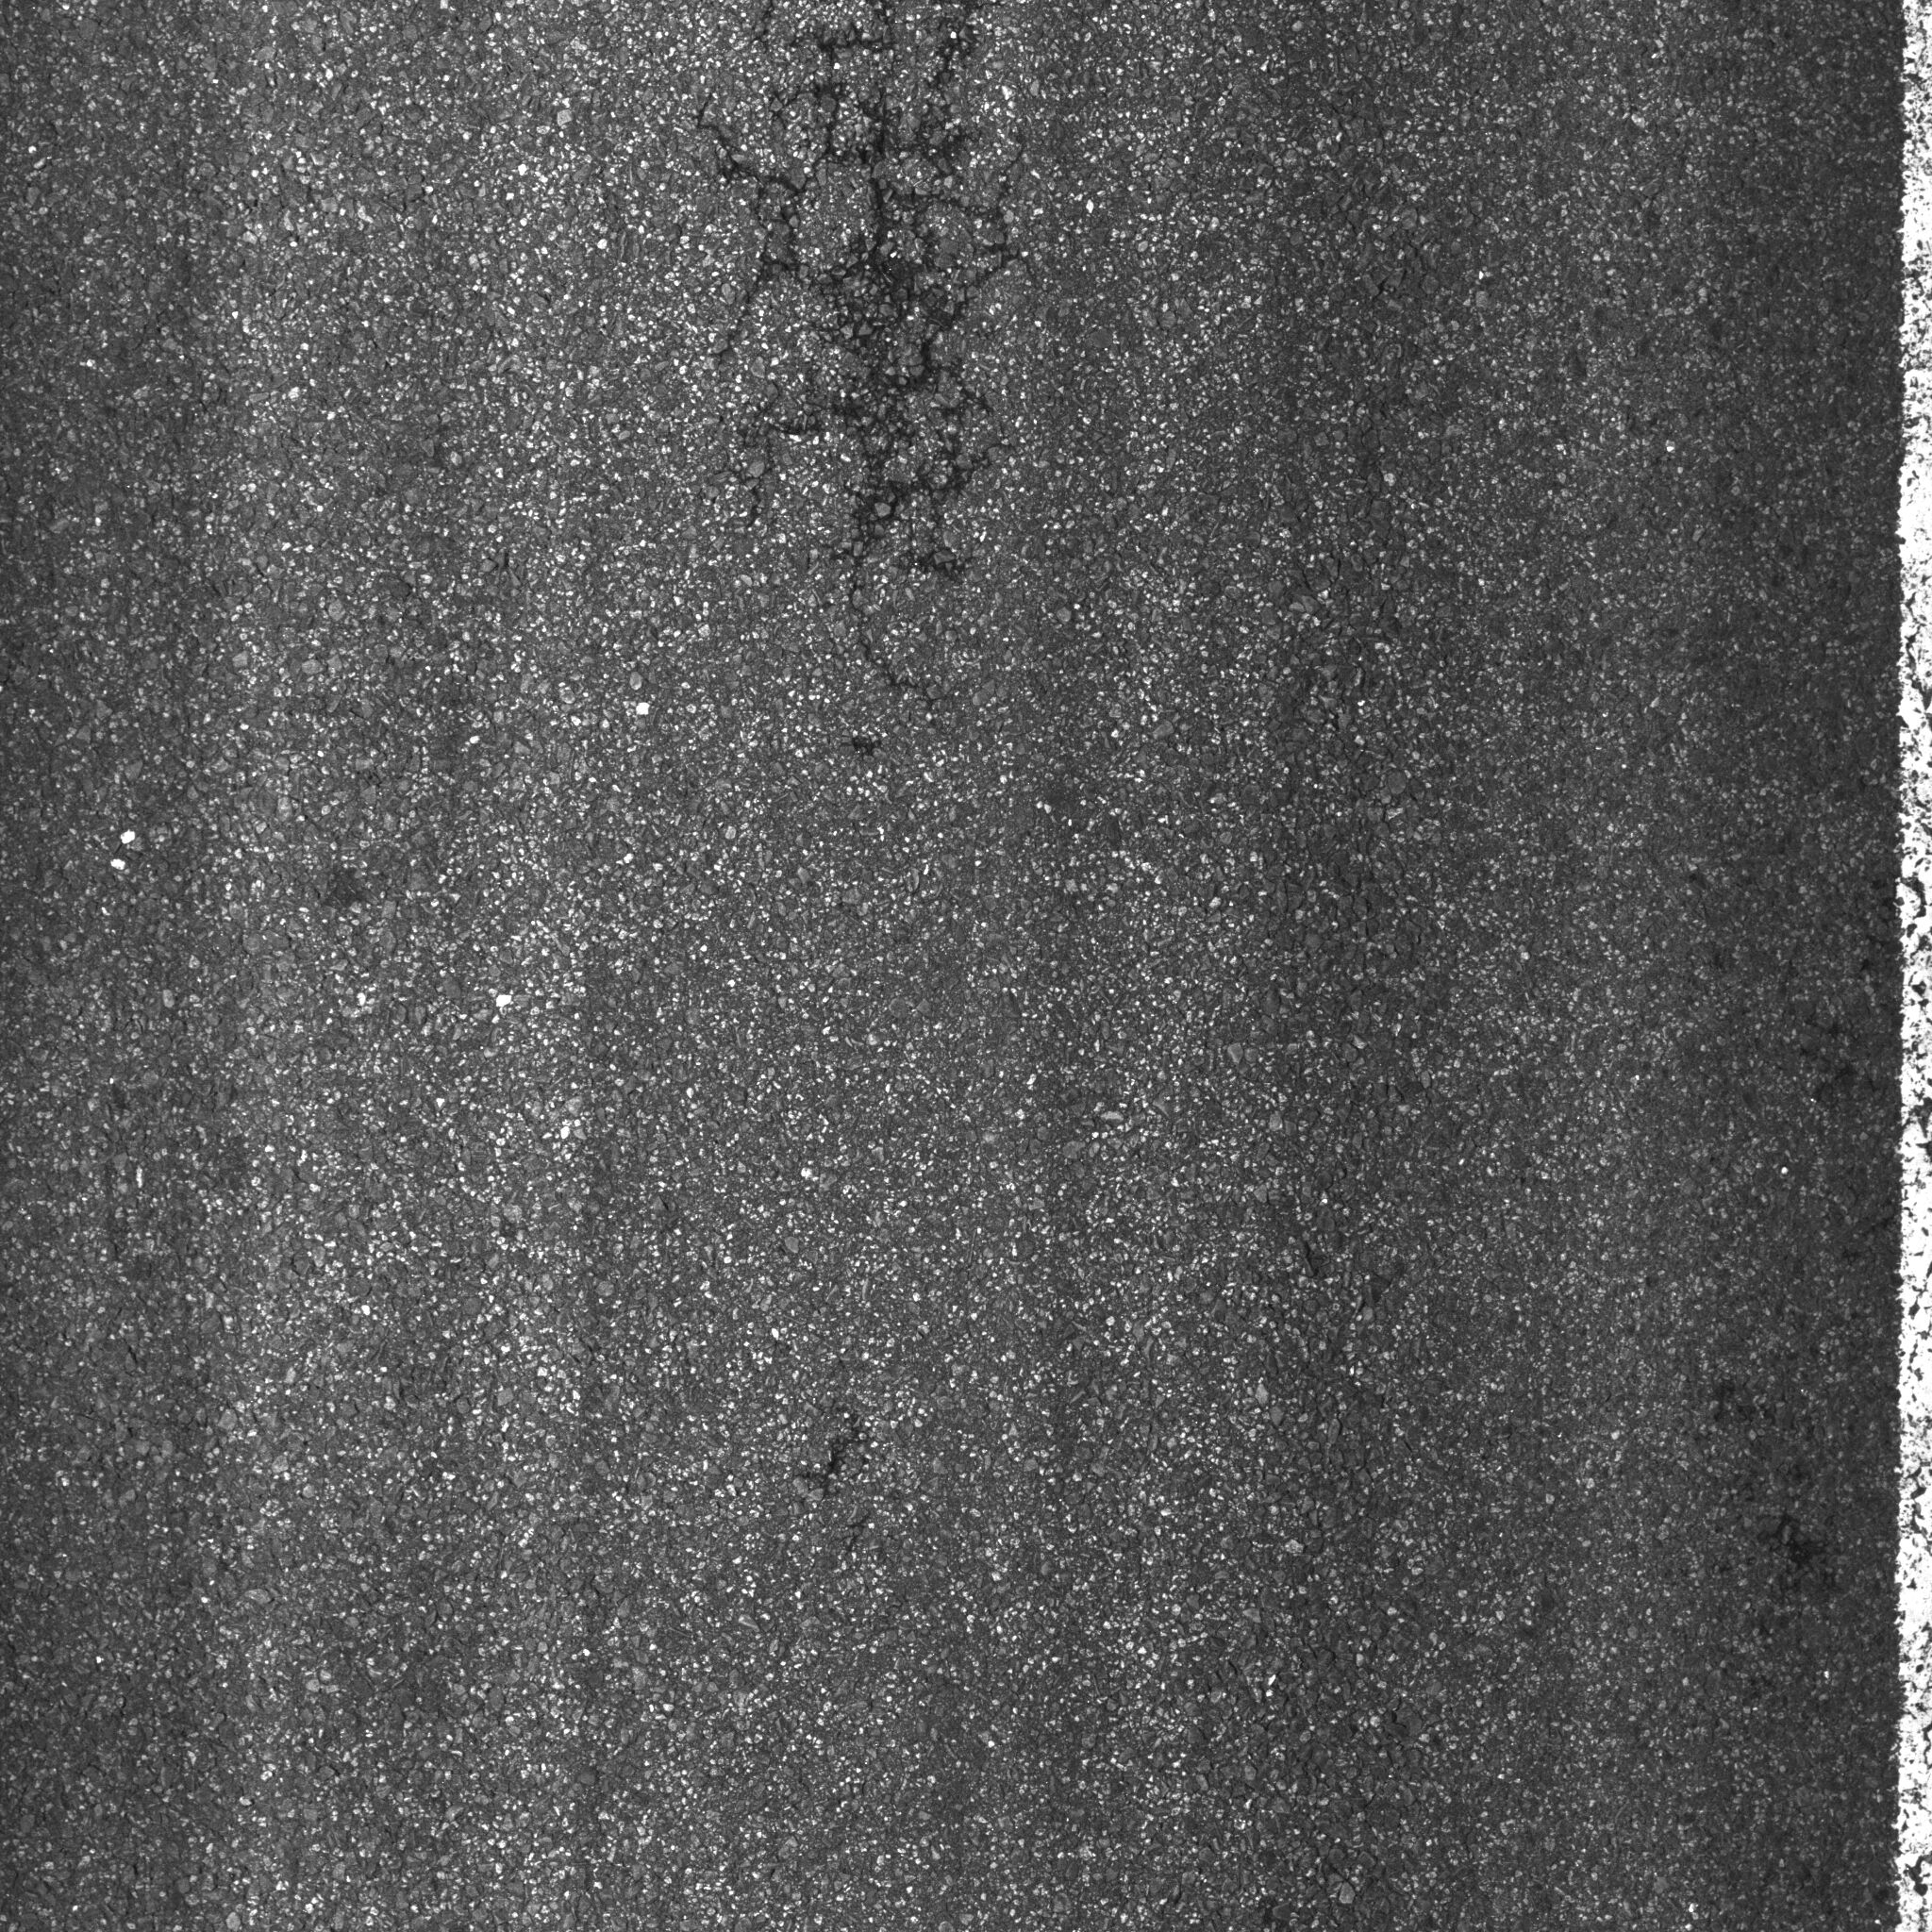alligator: (642, 2, 1129, 763)
